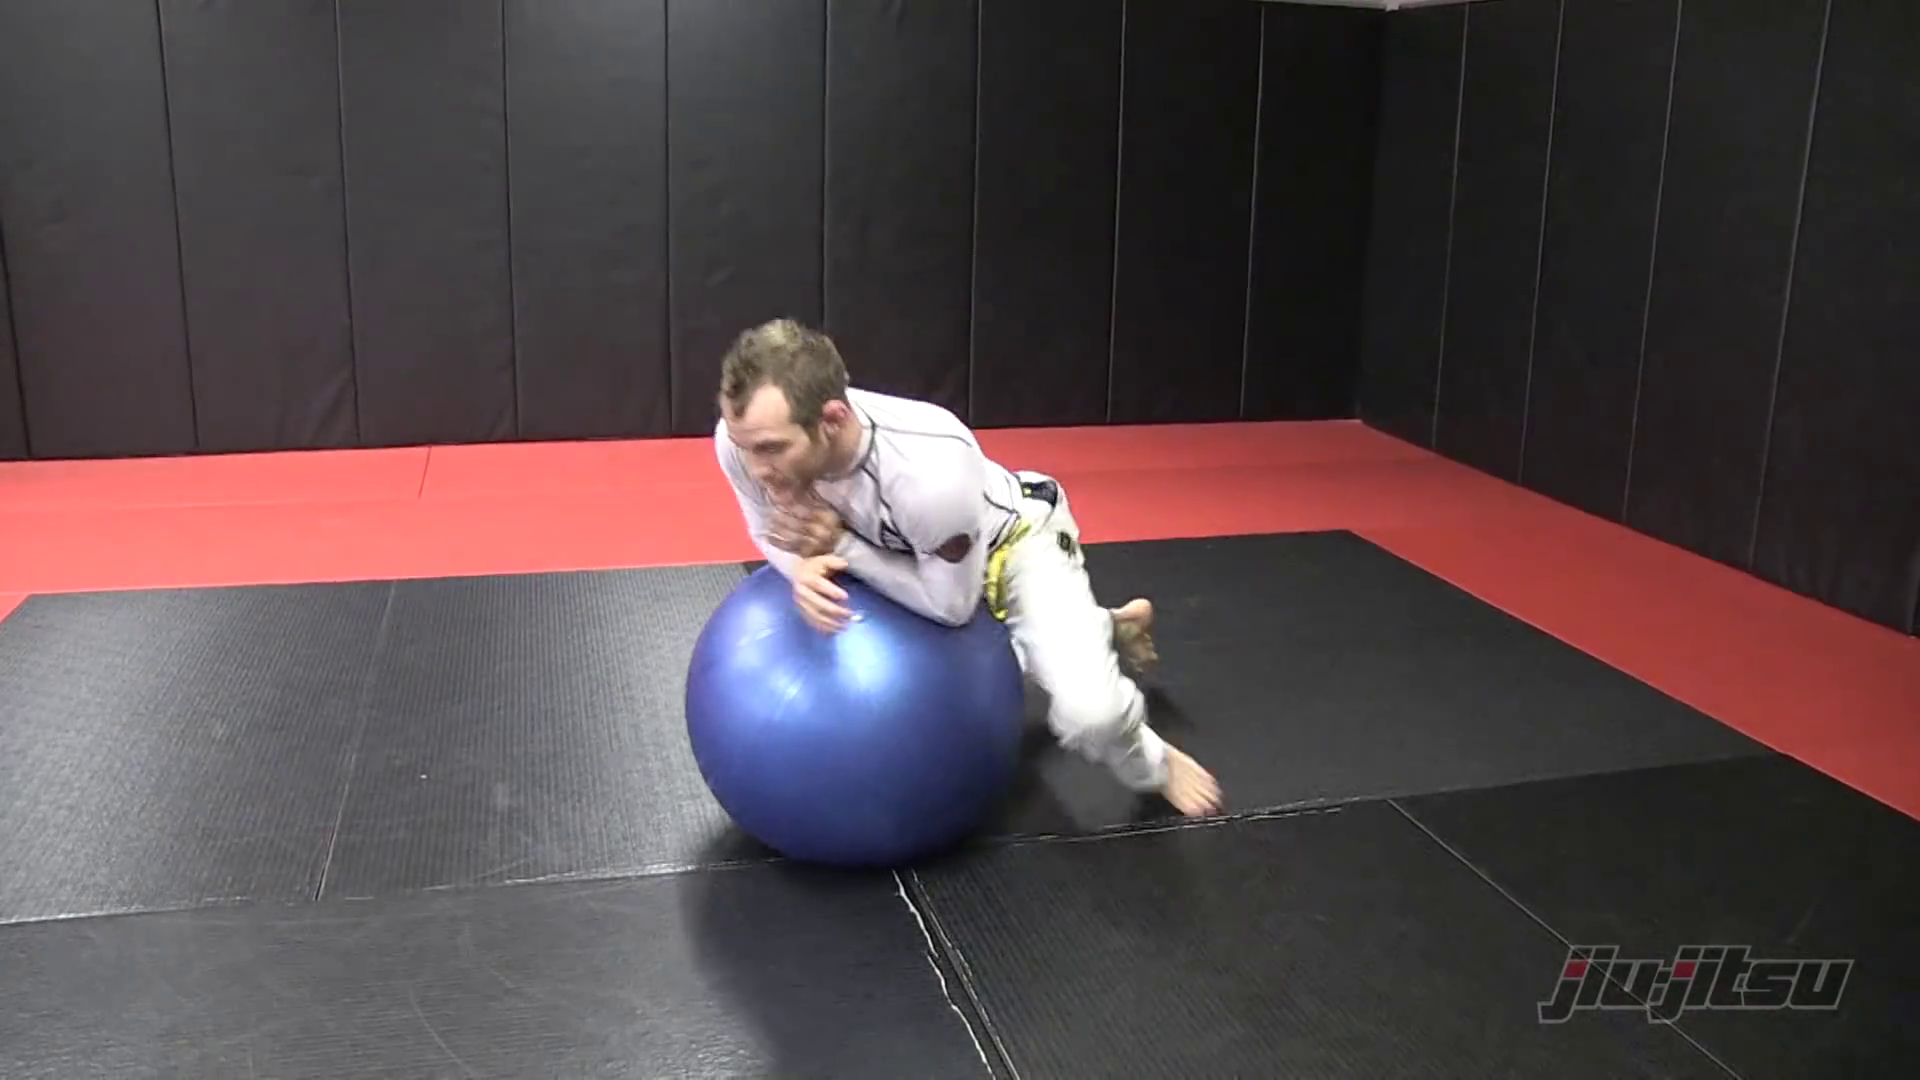yogaball: (659, 546, 1060, 870)
